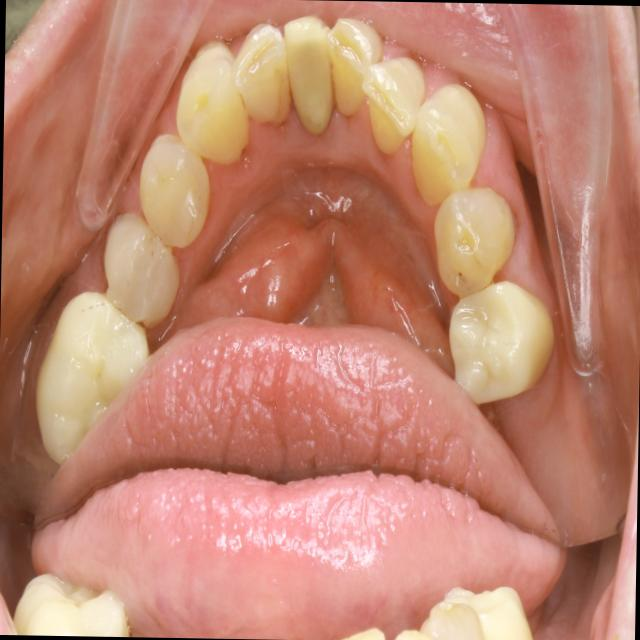tooth: (19, 281, 159, 476), (439, 274, 560, 421), (91, 201, 201, 338), (403, 53, 490, 219), (171, 28, 263, 180), (427, 178, 526, 316), (354, 35, 439, 168), (138, 123, 221, 252), (226, 7, 305, 139), (321, 0, 391, 129), (276, 11, 344, 140)
